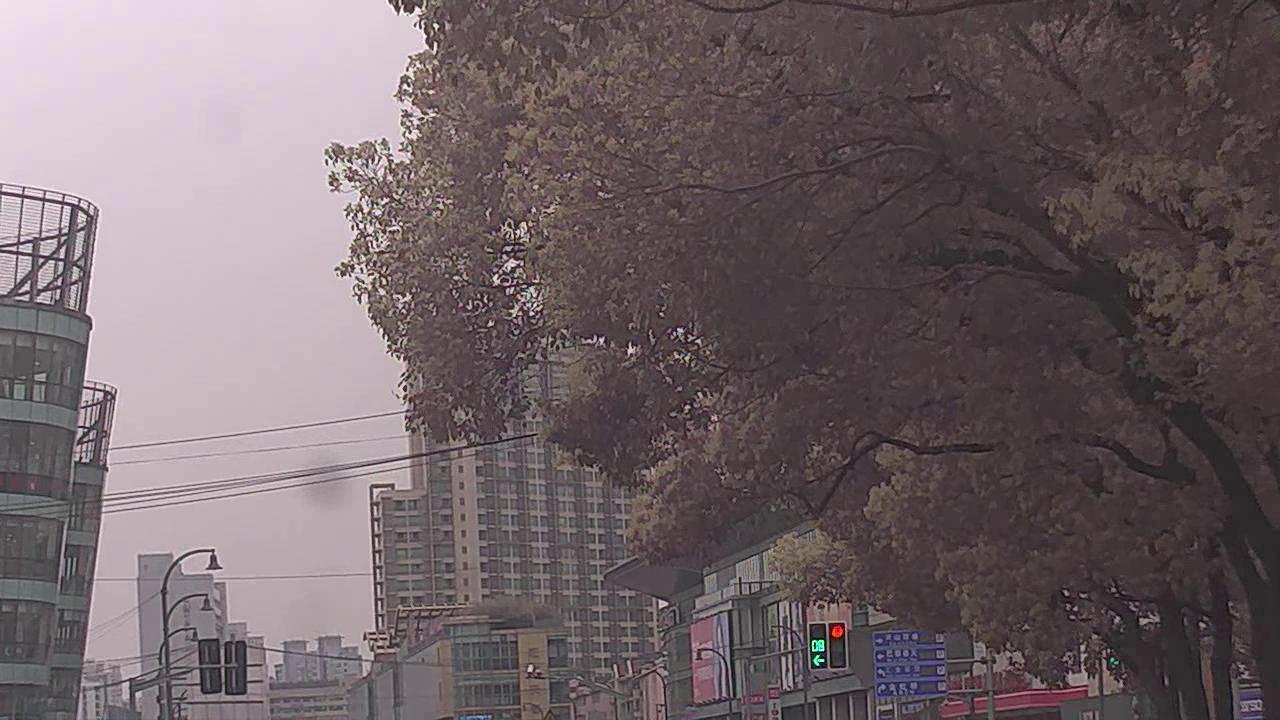traffic_light: (830, 621, 851, 670), (809, 624, 829, 671)
